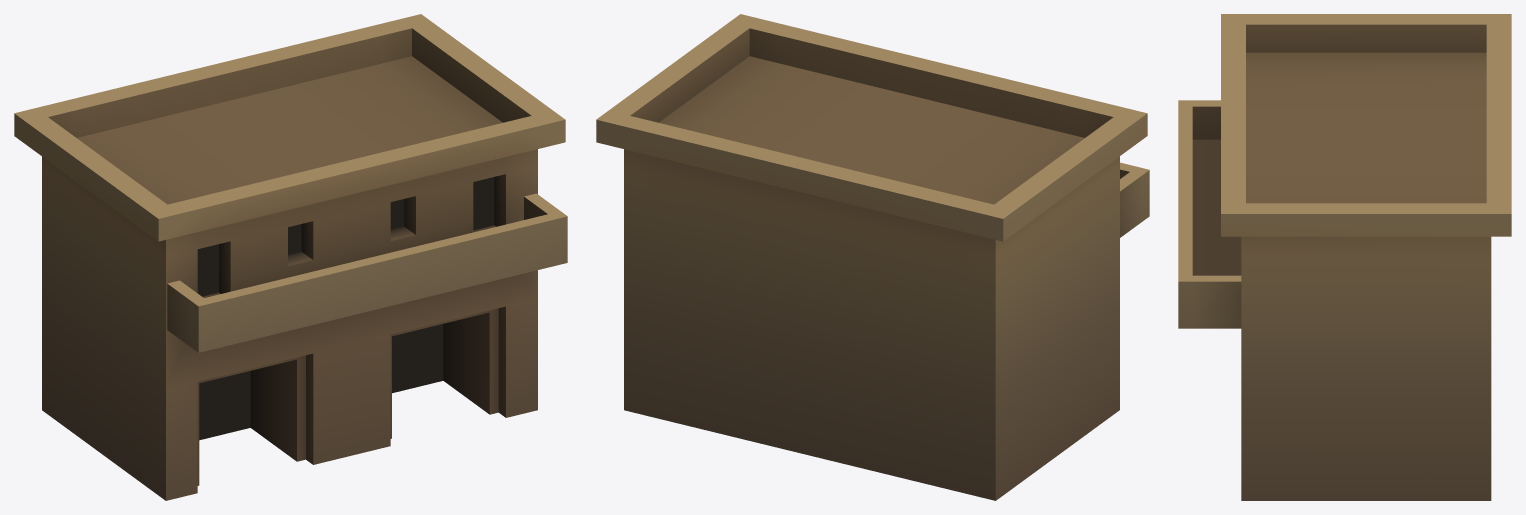
File: buildings-historical-desertbuildingold_v9.glb
The picture shows the model from 3 angles, left to right: view 1: azimuth 30°, elevation 25°; view 2: azimuth 150°, elevation 25°; view 3: azimuth 270°, elevation 25°; orthographic projection.
Visible parts, largest first — view 1: DesertBuildingOld_v9; view 2: DesertBuildingOld_v9; view 3: DesertBuildingOld_v9.
Part boxes in pixels (left/top/right/bottom): DesertBuildingOld_v9: left=14, top=14, right=567, bottom=500; DesertBuildingOld_v9: left=596, top=14, right=1149, bottom=500; DesertBuildingOld_v9: left=1178, top=14, right=1511, bottom=500.
Bounding box in the file's own units: 19.47 × 13.43 × 13.72.
